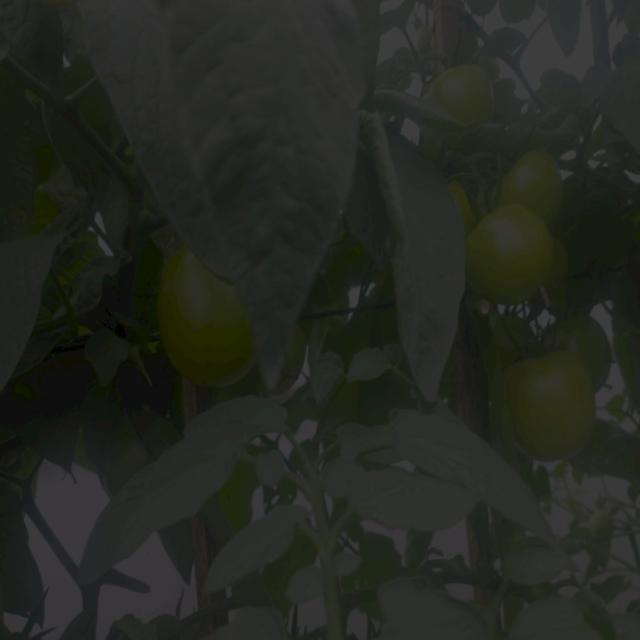tomato: (160, 251, 254, 392), (493, 346, 595, 459), (471, 206, 558, 303), (549, 310, 612, 386), (425, 55, 496, 116), (501, 157, 570, 213)
